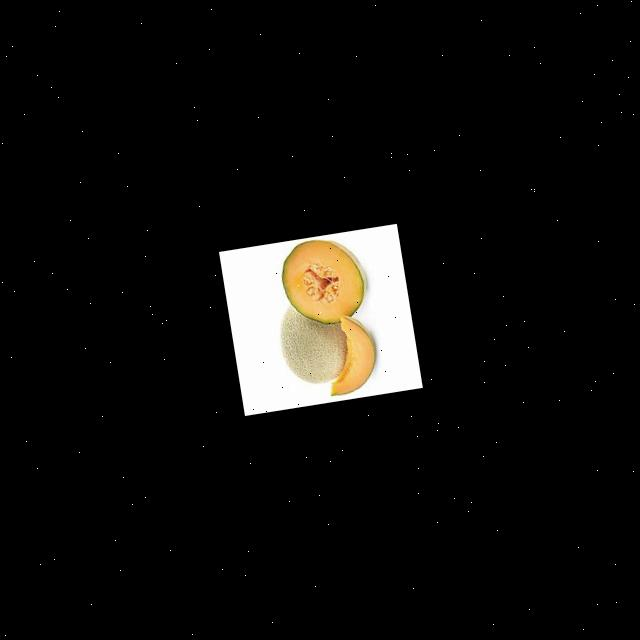Hami Melon: (276, 233, 372, 332), (276, 299, 352, 389), (318, 312, 382, 398)
